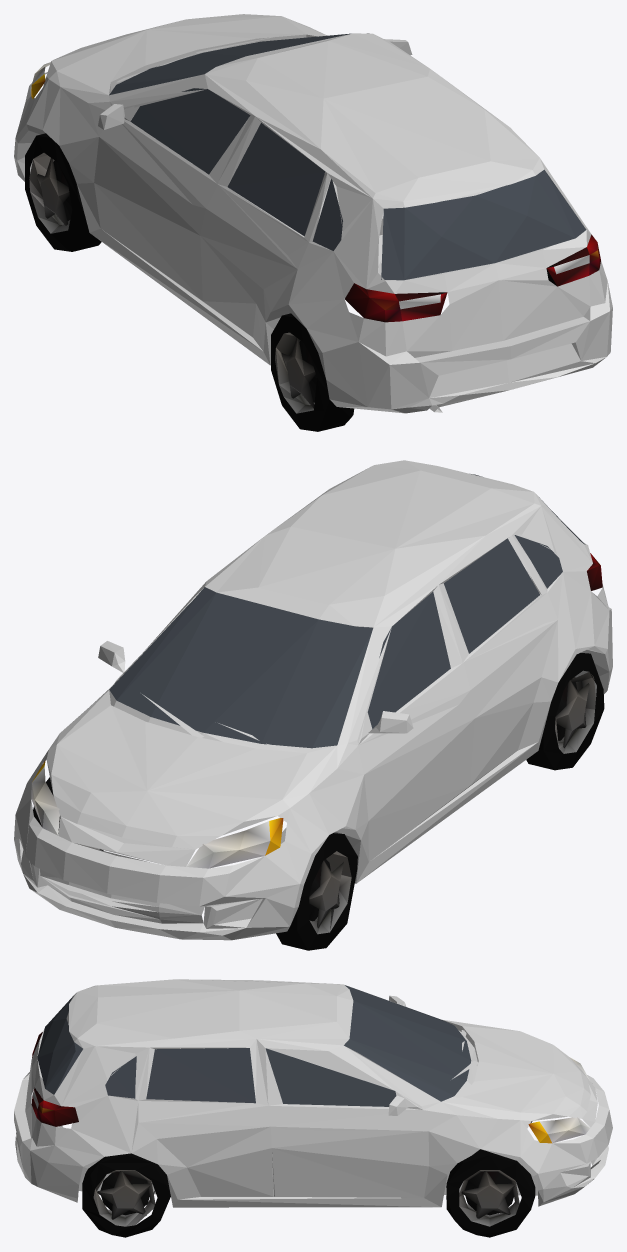
Rendered from v2-hatchback-parked.glb.
3 views of the same model, one above another, from view 1: azimuth 30°, elevation 25°; view 2: azimuth 150°, elevation 25°; view 3: azimuth 270°, elevation 25° (orthographic). The views are drawn at different scales.
Bounding box in the file's own units: 1.8 × 1.4 × 4.1.
